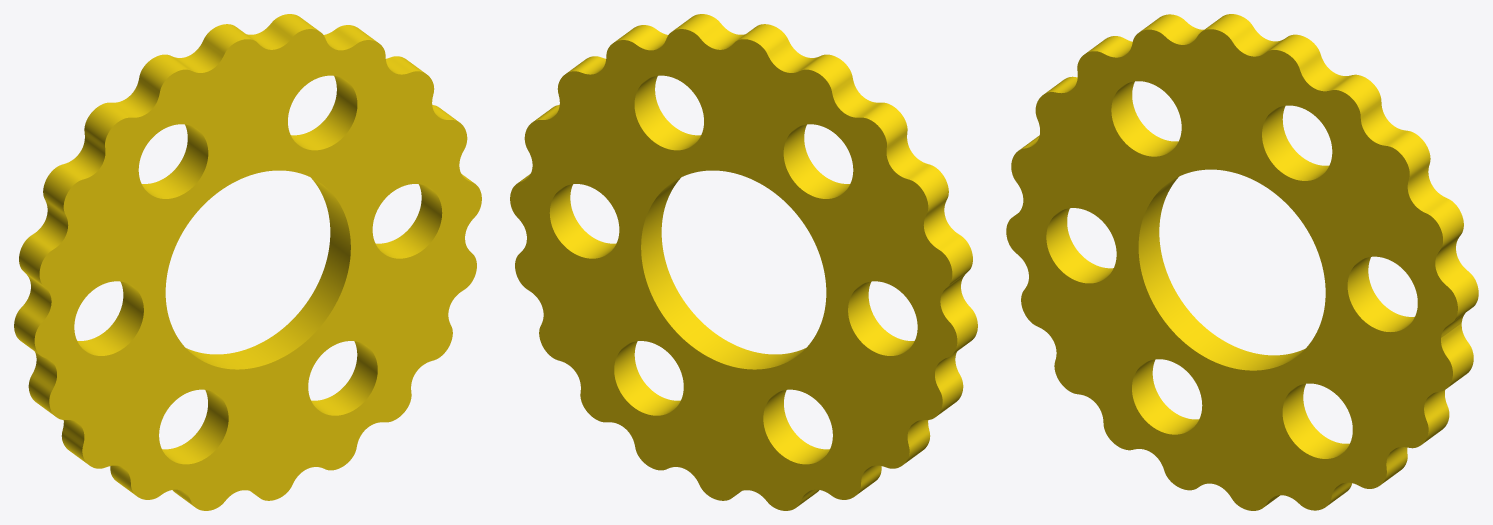
File: cycloidal_dis_balance.gltf
3 views of the same model, side by side, from view 1: azimuth 30°, elevation 25°; view 2: azimuth 150°, elevation 25°; view 3: azimuth 330°, elevation 25° (orthographic).
Visible parts, largest first — view 1: mesh58, mesh61, mesh57, mesh60, mesh66, mesh62, mesh63, mesh65, mesh67, mesh64; view 2: mesh59, mesh61, mesh57, mesh60, mesh66, mesh62, mesh63, mesh65, mesh67, mesh64; view 3: mesh58, mesh61, mesh57, mesh60, mesh62, mesh64, mesh63, mesh65, mesh67, mesh66.
Part boxes in pixels (left/top/right/bottom): mesh58: left=34, top=29, right=481, bottom=510; mesh61: left=19, top=14, right=473, bottom=302; mesh57: left=186, top=177, right=350, bottom=369; mesh60: left=14, top=288, right=257, bottom=506; mesh66: left=291, top=76, right=357, bottom=150; mesh62: left=311, top=341, right=377, bottom=415; mesh63: left=162, top=390, right=228, bottom=464; mesh65: left=142, top=124, right=208, bottom=198; mesh67: left=375, top=184, right=442, bottom=258; mesh64: left=77, top=281, right=143, bottom=355; mesh59: left=510, top=29, right=957, bottom=510; mesh61: left=518, top=14, right=972, bottom=302; mesh57: left=641, top=177, right=805, bottom=369; mesh60: left=734, top=288, right=977, bottom=506; mesh66: left=634, top=76, right=700, bottom=150; mesh62: left=614, top=341, right=680, bottom=415; mesh63: left=763, top=390, right=829, bottom=464; mesh65: left=783, top=124, right=849, bottom=198; mesh67: left=549, top=184, right=616, bottom=258; mesh64: left=848, top=281, right=914, bottom=355; mesh58: left=1006, top=29, right=1457, bottom=510; mesh61: left=1020, top=14, right=1478, bottom=337; mesh57: left=1138, top=176, right=1304, bottom=370; mesh60: left=1015, top=213, right=1473, bottom=506; mesh62: left=1282, top=384, right=1349, bottom=458; mesh64: left=1046, top=208, right=1113, bottom=283; mesh63: left=1132, top=359, right=1198, bottom=434; mesh65: left=1111, top=81, right=1178, bottom=156; mesh67: left=1347, top=257, right=1414, bottom=331; mesh66: left=1262, top=105, right=1328, bottom=180.
Size of the model in its own units: 0.0628 by 0.0628 by 0.005.
